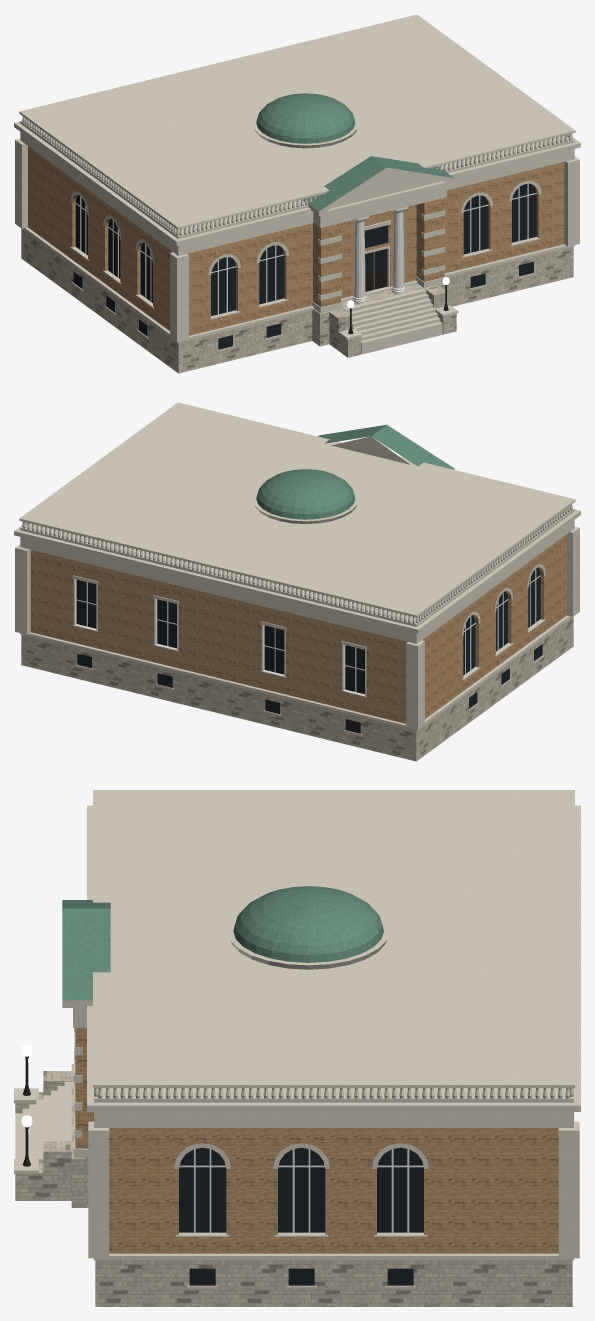
File: carnegie-library.glb
3 renders of one model, top to bottom at view 1: azimuth 30°, elevation 25°; view 2: azimuth 150°, elevation 25°; view 3: azimuth 270°, elevation 25°, orthographic. The views are drawn at different scales.
Parts seen in each view (by area): view 1: CarnegieLibrary; view 2: CarnegieLibrary; view 3: CarnegieLibrary.
Boxes of the visible parts, bbox=[...] form: CarnegieLibrary: bbox=[14, 14, 580, 373]; CarnegieLibrary: bbox=[14, 402, 580, 761]; CarnegieLibrary: bbox=[14, 790, 580, 1306].
Bounding box in the file's own units: 30.12 × 12.25 × 24.07.
9 materials, 5 textured.
